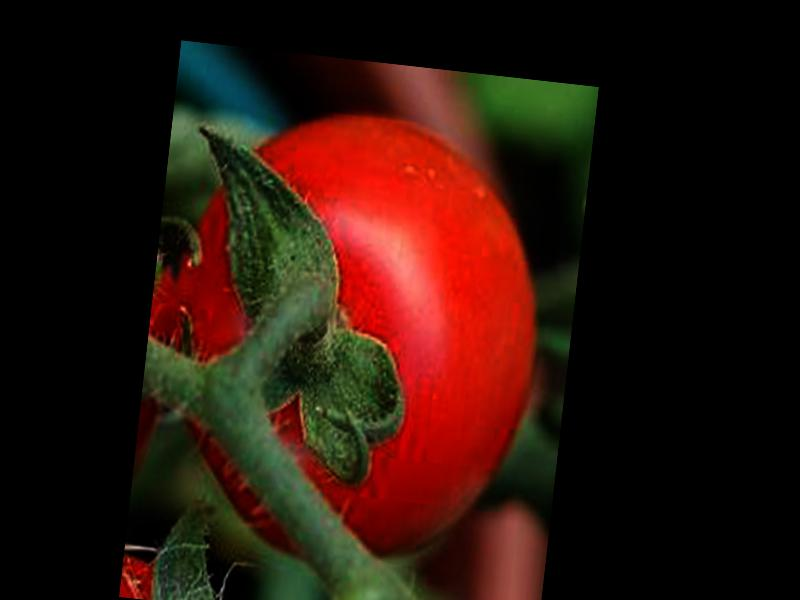Tomato: (135, 93, 558, 584)
